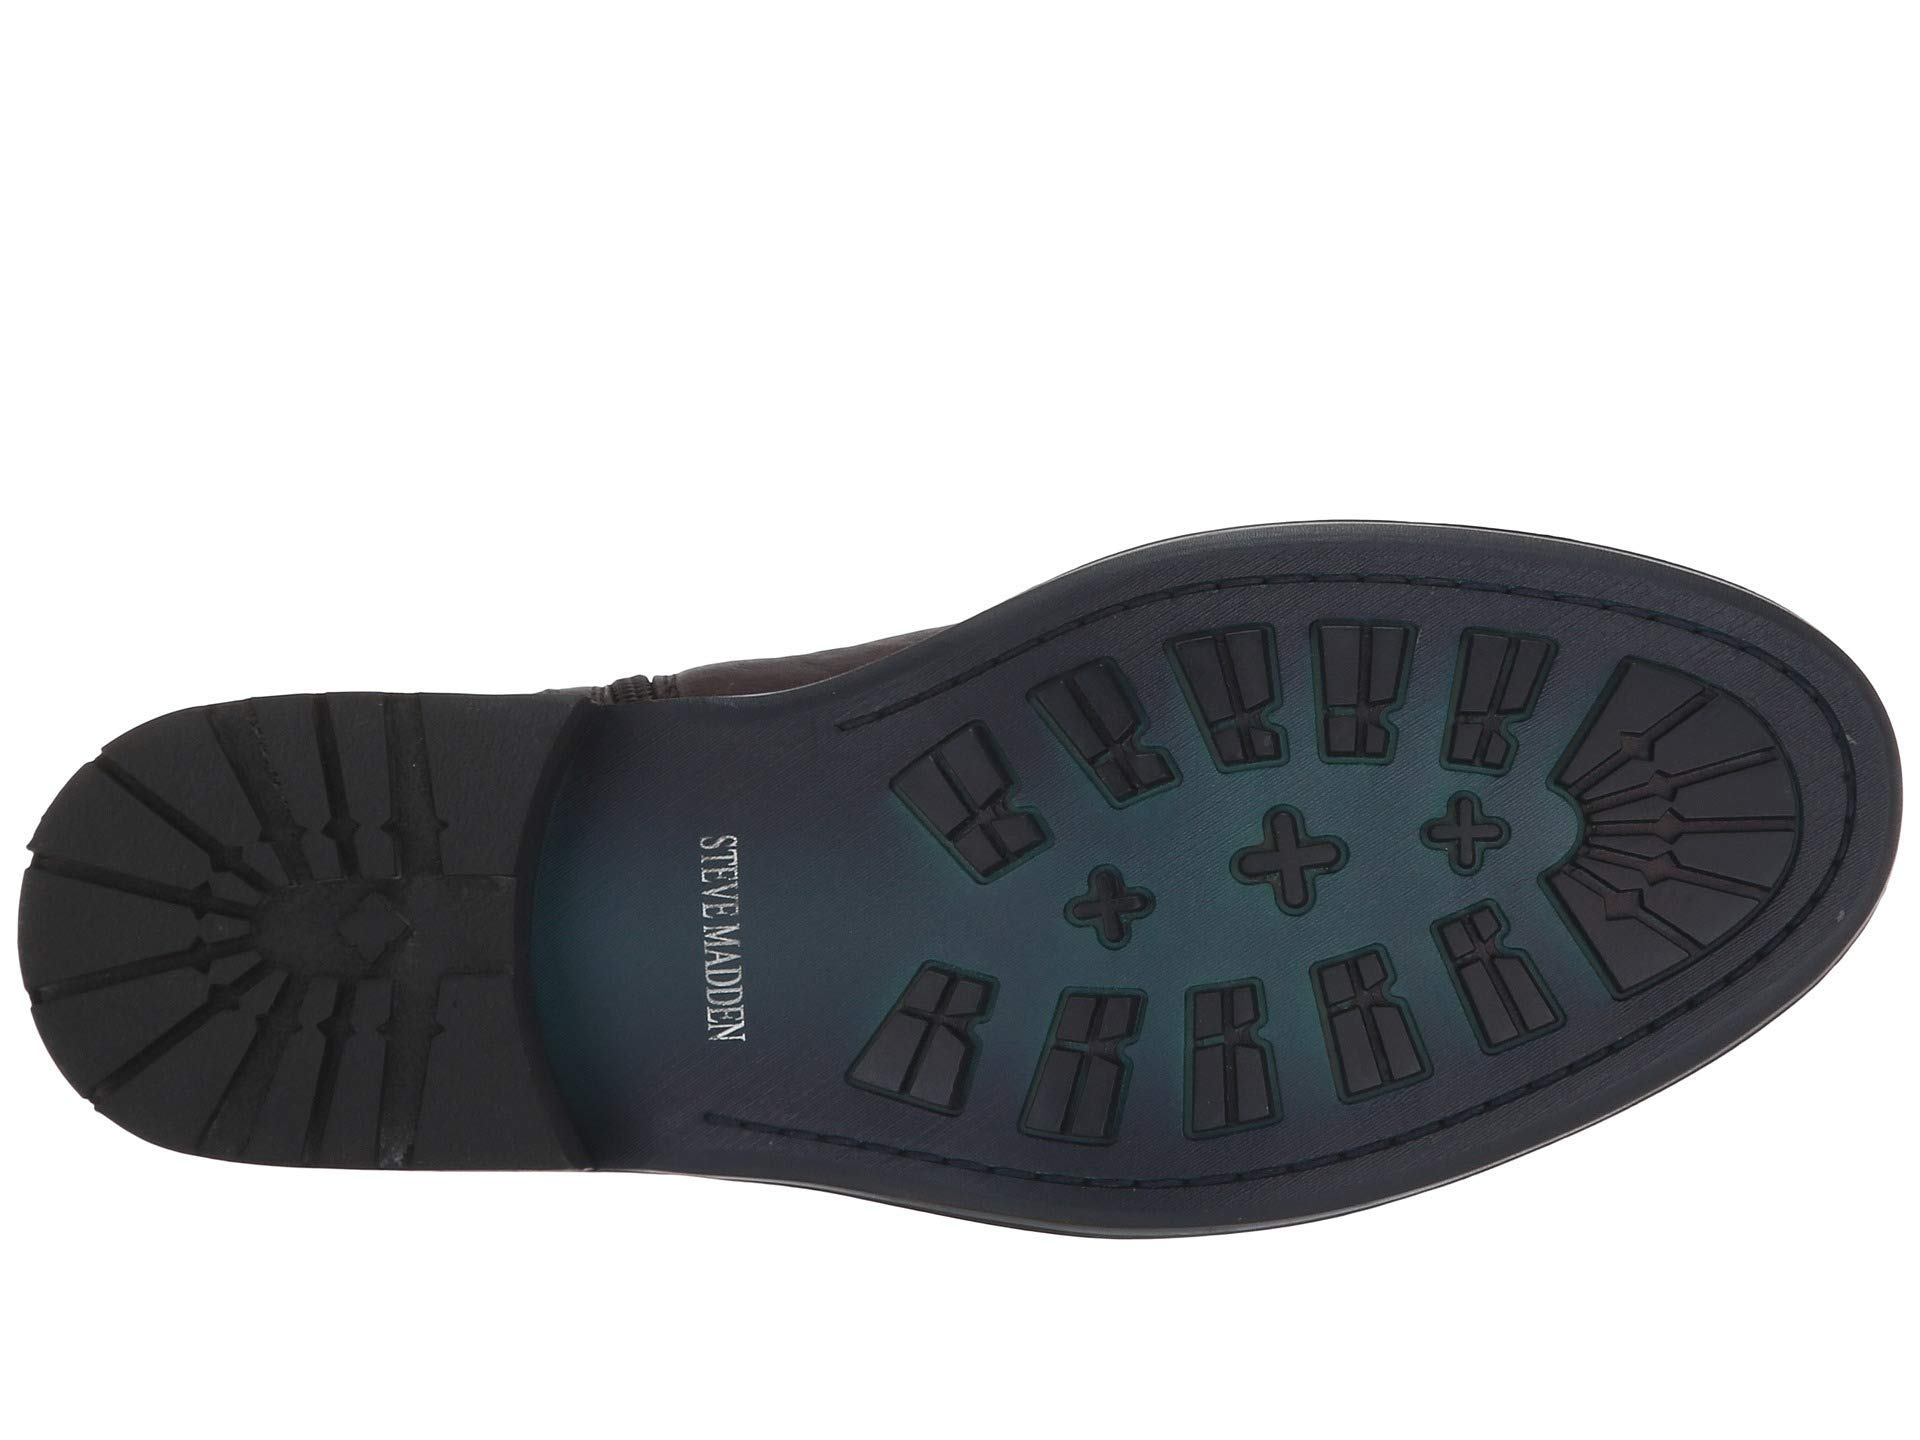bowtie: (1544, 632, 1813, 906)
quad: (1394, 877, 1593, 1085), (999, 954, 1179, 1165), (1274, 591, 1447, 765)
star: (1208, 777, 1364, 938)
